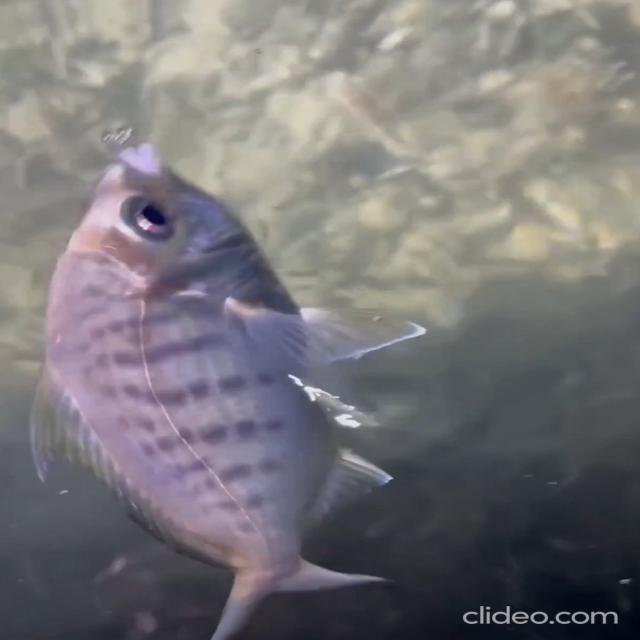fish: (29, 134, 442, 640)
